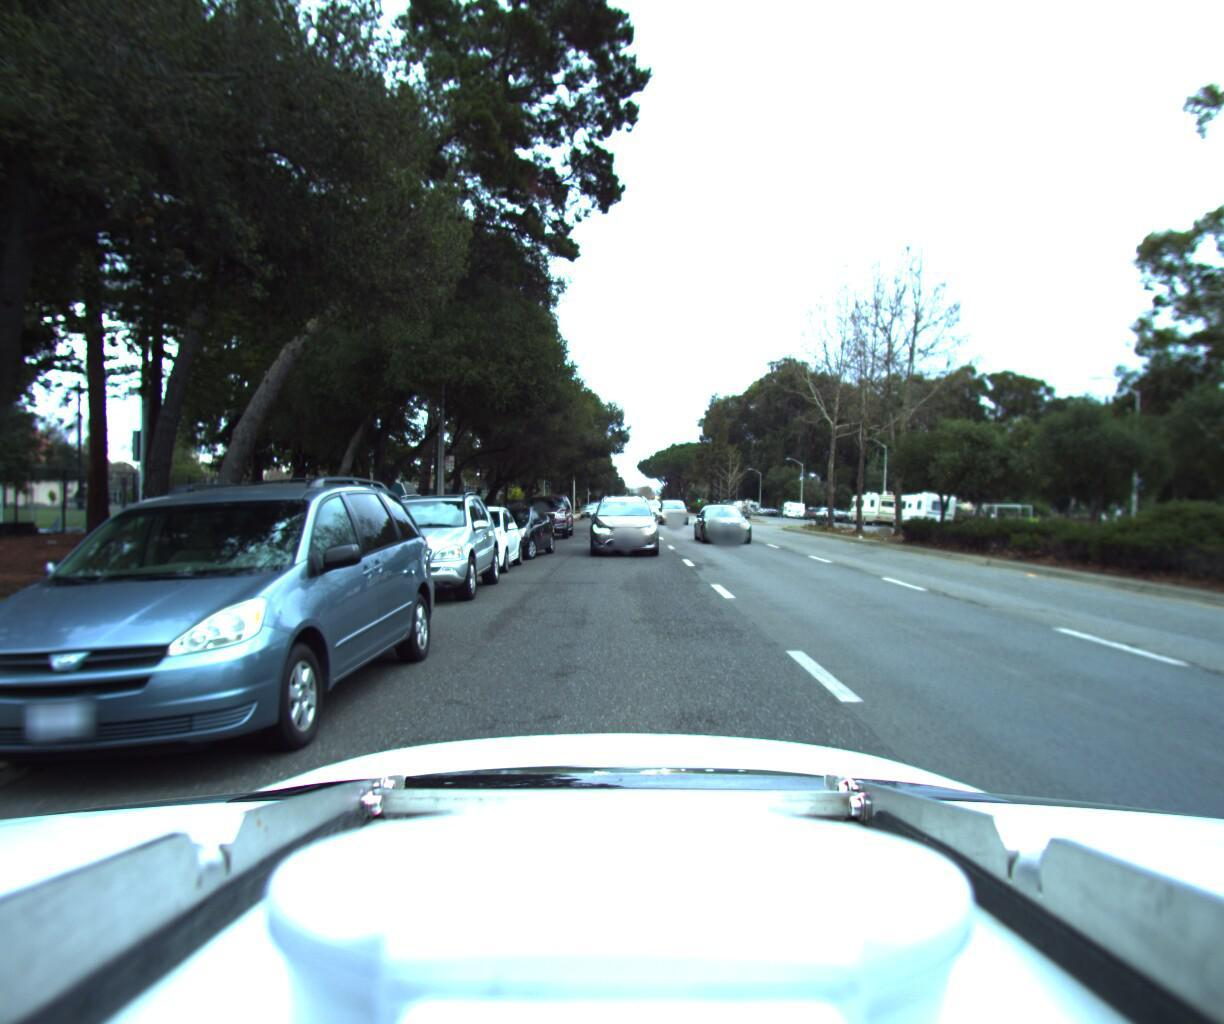car: (0, 446, 444, 827), (339, 478, 506, 604), (426, 497, 523, 573), (463, 497, 558, 558), (587, 483, 660, 551), (514, 485, 575, 534), (693, 497, 760, 540), (661, 488, 692, 518)
other_vehicle: (888, 485, 960, 524), (848, 485, 905, 519)
